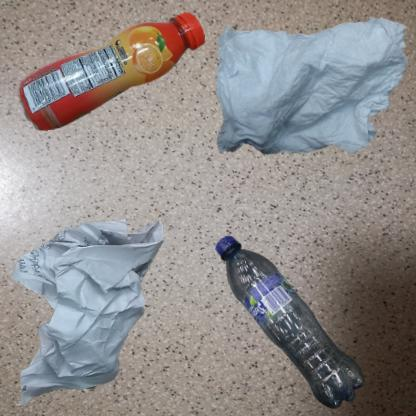botella: (213, 213, 384, 416), (10, 10, 229, 142)
papel: (213, 10, 412, 161), (10, 213, 164, 406)
